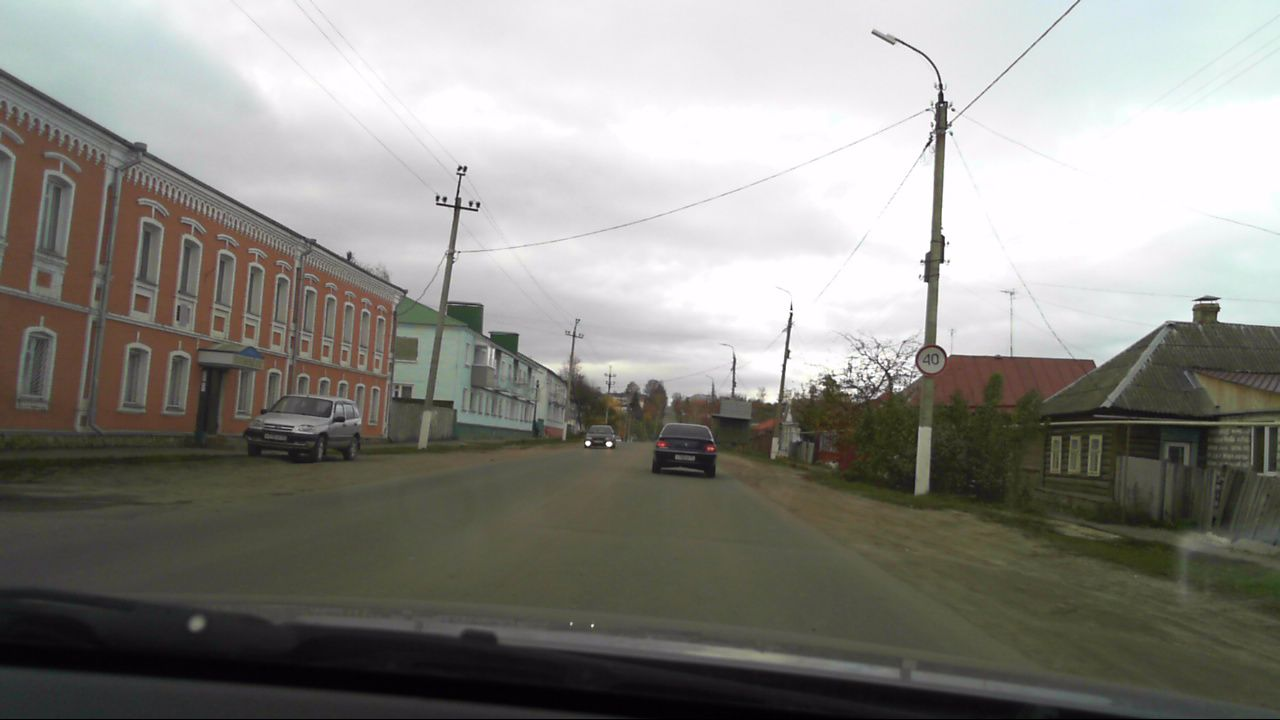speed_warning_40: (913, 344, 948, 376)
